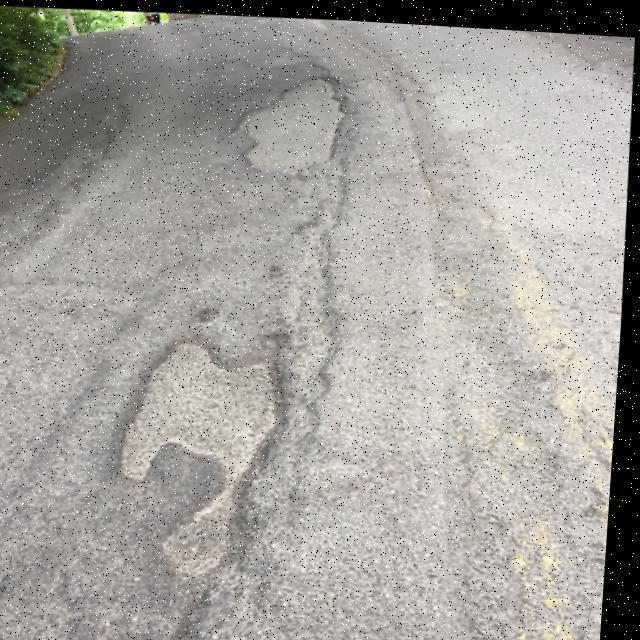Pothole: (90, 321, 304, 592), (217, 65, 366, 189)
